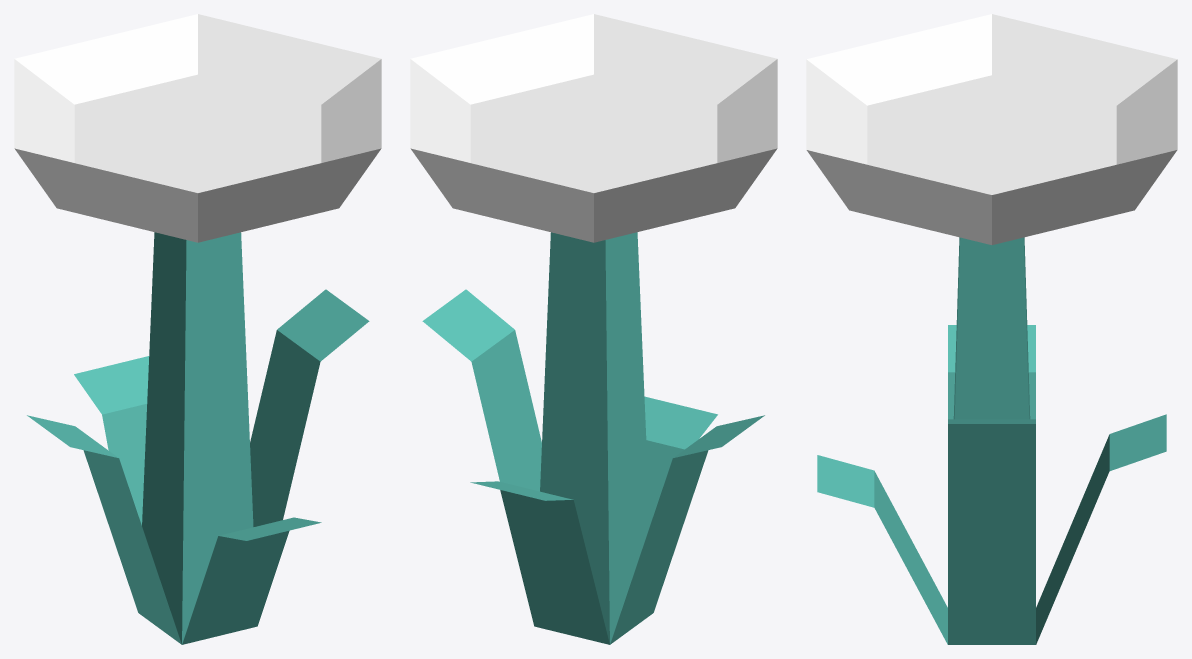
The model's file is Flower.glb.
3 views of the same model, side by side, from view 1: azimuth 30°, elevation 25°; view 2: azimuth 150°, elevation 25°; view 3: azimuth 270°, elevation 25° (orthographic).
Visible parts, largest first — view 1: Stem, Blossom; view 2: Blossom, Stem; view 3: Blossom, Stem.
Part boxes in pixels (left/top/right/bottom): Stem: left=27, top=232, right=369, bottom=644; Blossom: left=14, top=14, right=381, bottom=242; Blossom: left=410, top=14, right=777, bottom=242; Stem: left=422, top=232, right=764, bottom=644; Blossom: left=806, top=14, right=1177, bottom=244; Stem: left=817, top=237, right=1166, bottom=644.
Bounding box in the file's own units: 0.1513 × 0.2032 × 0.131.
